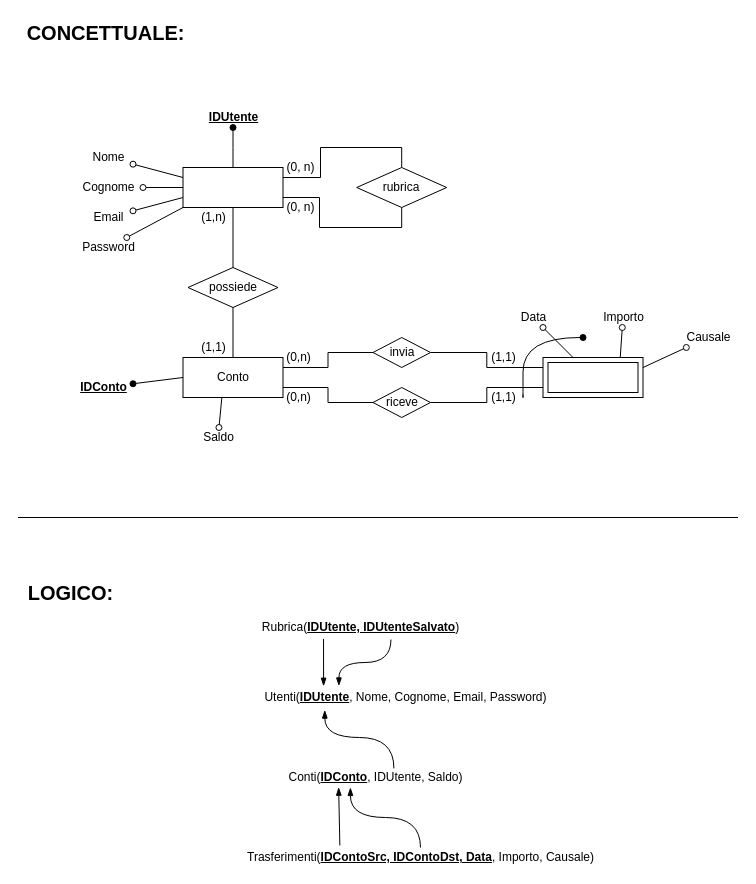
This 756x884 diagram has some shape labels left out. The shapes that lost their labels are listed below. From the top down, each one's centre as x and y in pixels, then its label:
point (232, 187): Utente
point (592, 377): Trasferimento
